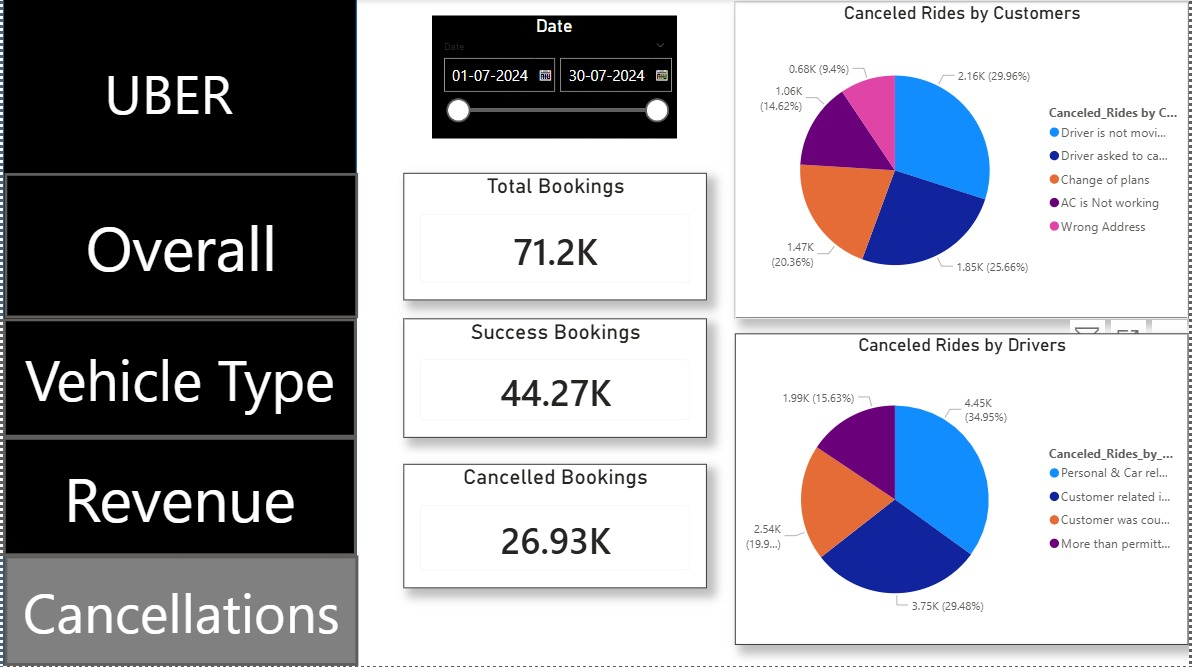

The page's visual inventory and layout, read from the dashboard file:
{"tool":"powerbi","page":{"name":"Cancellations","canvas":[1280,720],"ordinal":3},"visuals":[{"type":"shape","box":[0.7,0,381.7,720],"z":0},{"type":"actionButton","box":[1.4,187.1,381.7,156.9],"z":1000},{"type":"actionButton","box":[0.7,344.5,381.7,128.5],"z":2000},{"type":"actionButton","box":[0.7,473,381.7,128.5],"z":3000},{"type":"actionButton","box":[1.4,600.9,381.7,119.1],"z":4000},{"type":"textbox","box":[26.6,54.8,306.1,117.2],"z":5000},{"type":"pieChart","title":"Canceled Rides by Customers","fields":{"Category":["Bookings.Canceled_Rides_by_Customer"],"Y":["CountNonNull(Bookings.Canceled_Rides_by_Customer)"]},"box":[790.2,3.5,489.2,341.4],"z":6000},{"type":"pieChart","title":"Canceled Rides by Drivers","fields":{"Category":["Bookings.Canceled_Rides_by_Driver"],"Y":["CountNonNull(Bookings.Canceled_Rides_by_Driver)"]},"box":[790.2,360.8,489.2,336.1],"z":7000},{"type":"slicer","title":"Date","fields":{"Values":["Bookings.Date"]},"box":[462.8,17.6,264,132],"z":8000},{"type":"cardVisual","title":"Total Bookings","fields":{"Data":["CountNonNull(Bookings.Booking_ID)"]},"box":[432.9,188.3,327.3,137.3],"z":9000},{"type":"cardVisual","title":"Success Bookings","fields":{"Data":["CountNonNull(Bookings.Booking_ID)"]},"box":[432.9,344.9,327.3,128.5],"z":10000},{"type":"cardVisual","title":"Cancelled Bookings","fields":{"Data":["CountNonNull(Bookings.Booking_ID)"]},"box":[432.9,501.6,327.3,133.7],"z":11000}]}

Visuals, with their boxes in screenshot pixels (x1, y1, x2, y2), scaled from the page's 1280x720 canvas onto the 1192x667 screenshot:
shape: detection(1, 0, 356, 666)
actionButton: detection(1, 173, 357, 319)
actionButton: detection(1, 319, 356, 438)
actionButton: detection(1, 438, 356, 557)
actionButton: detection(1, 557, 357, 666)
textbox: detection(25, 51, 310, 159)
"Canceled Rides by Customers" pieChart: detection(736, 3, 1191, 320)
"Canceled Rides by Drivers" pieChart: detection(736, 334, 1191, 646)
"Date" slicer: detection(431, 16, 677, 139)
"Total Bookings" cardVisual: detection(403, 174, 708, 302)
"Success Bookings" cardVisual: detection(403, 320, 708, 439)
"Cancelled Bookings" cardVisual: detection(403, 465, 708, 589)
